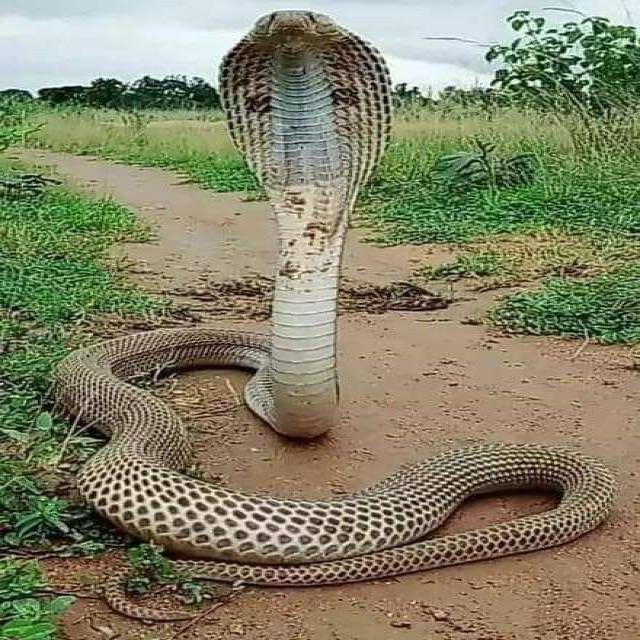Snake: (0, 0, 625, 627)
